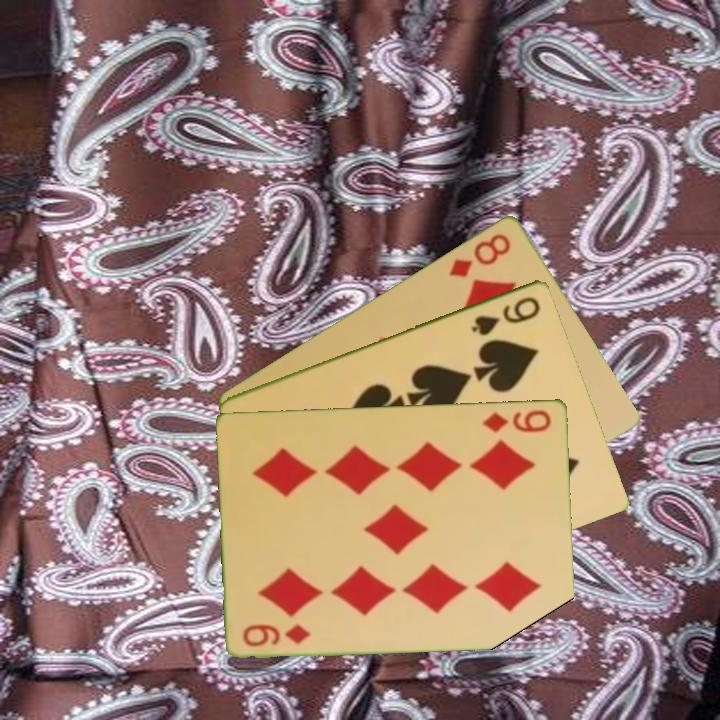8d: (445, 229, 514, 280)
9d: (240, 619, 314, 649), (479, 406, 555, 435)
9s: (468, 292, 544, 338)
